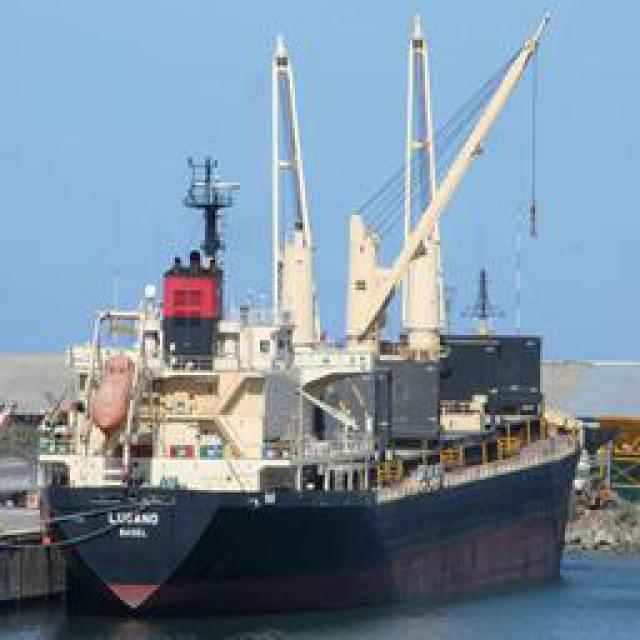Ship: (42, 1, 590, 611)
